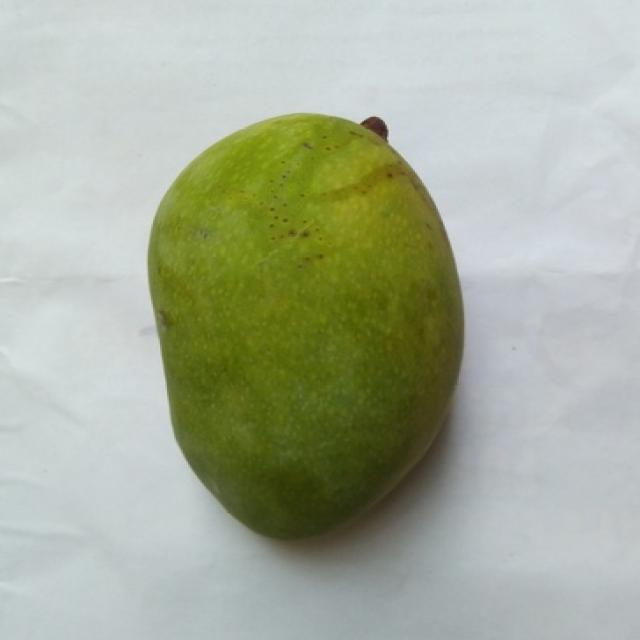Mango: (148, 114, 461, 538)
